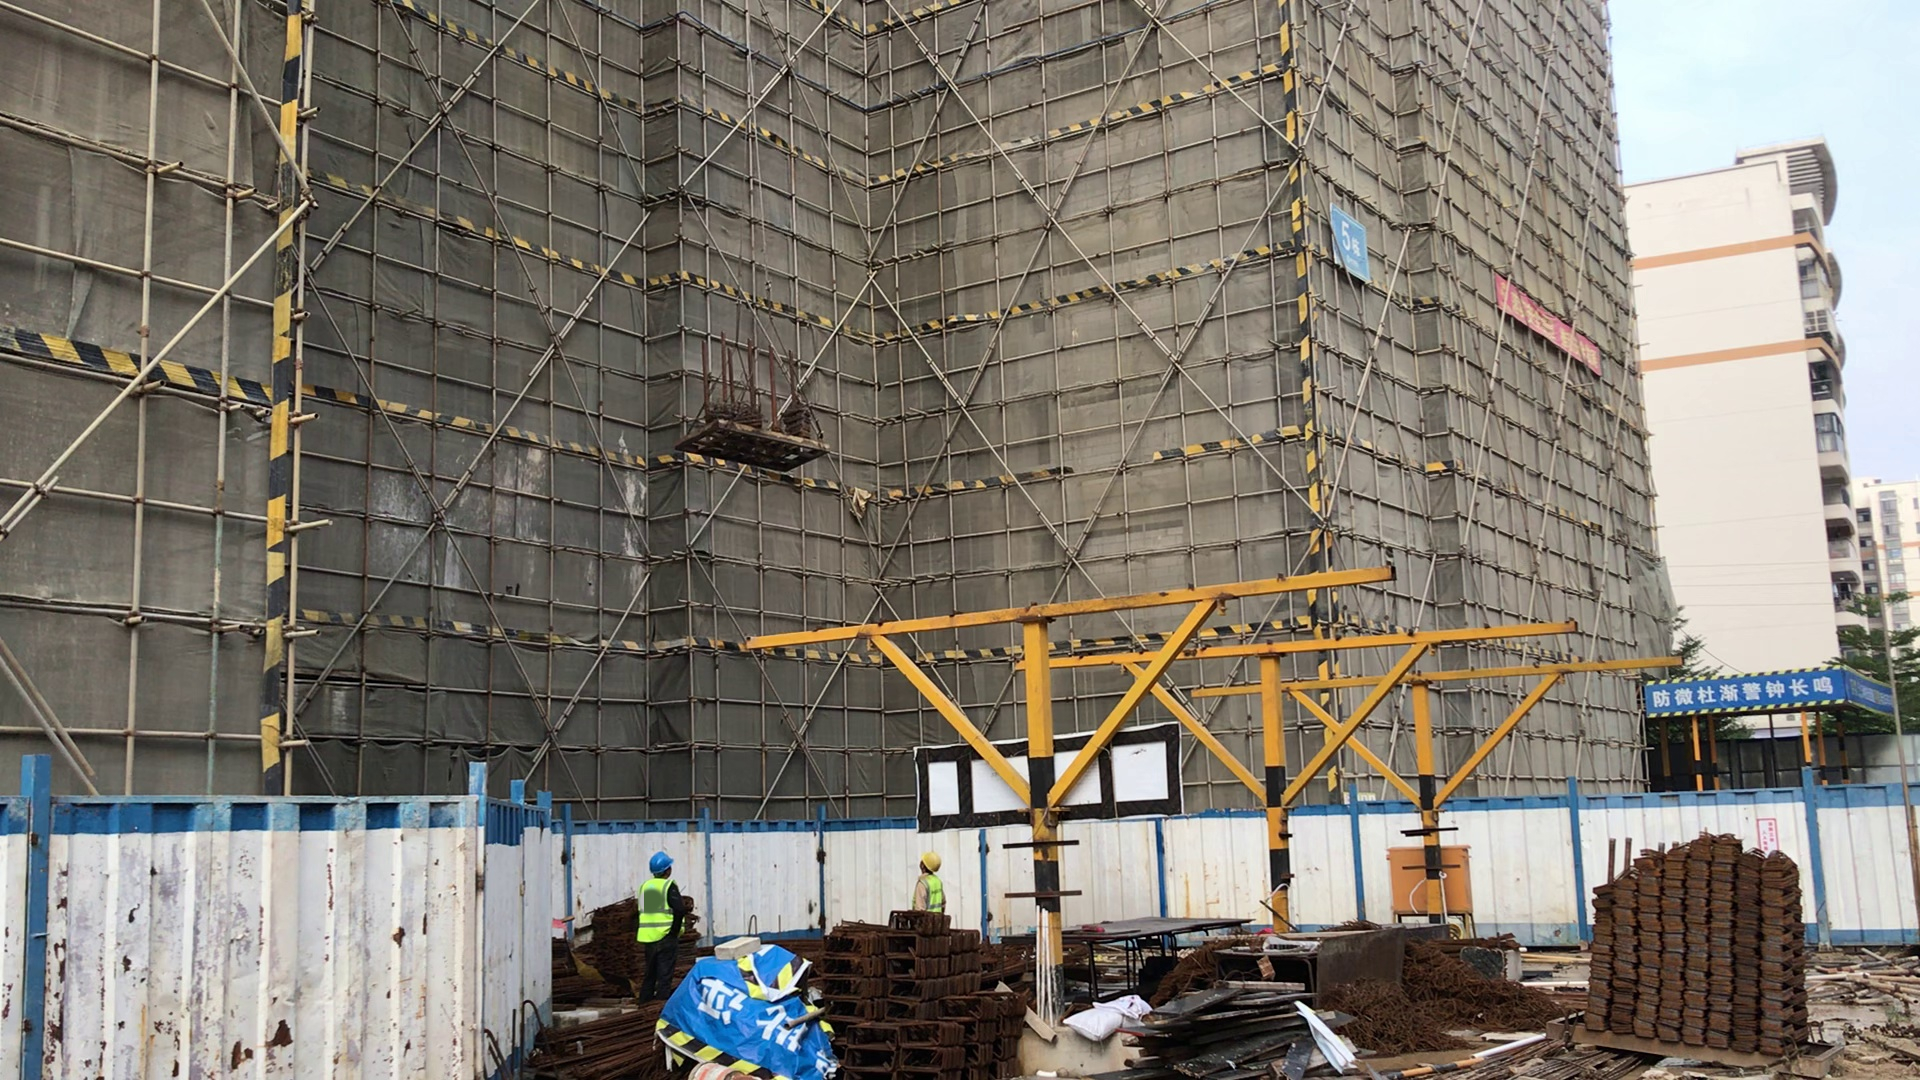ebox: (1382, 846, 1474, 922)
helmet: (647, 850, 674, 873), (919, 850, 944, 873)
person: (621, 843, 711, 1015), (900, 845, 971, 922)
slogan: (1502, 272, 1601, 379), (1649, 678, 1845, 715)
vest: (639, 880, 670, 943), (918, 879, 944, 912)
